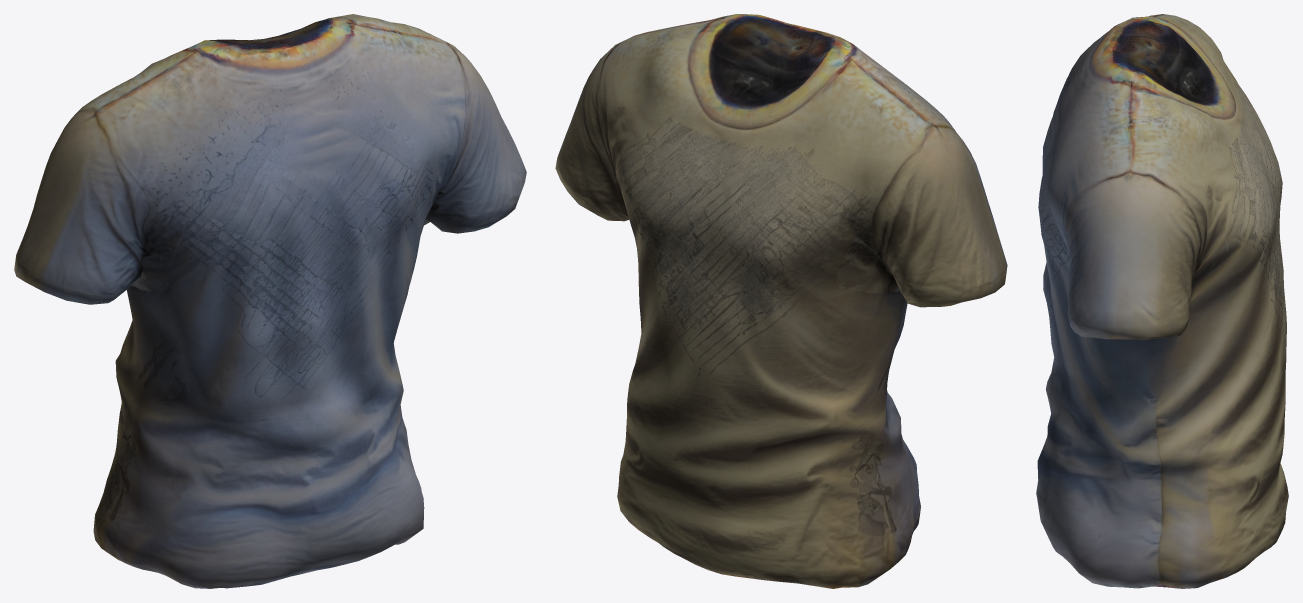
Rendered from BlackTshirt.fbx.
The picture shows the model from 3 angles, left to right: view 1: azimuth 30°, elevation 25°; view 2: azimuth 150°, elevation 25°; view 3: azimuth 270°, elevation 25°; orthographic projection. The views are drawn at different scales.
Visible parts, largest first — view 1: Mesh_0.005; view 2: Mesh_0.005; view 3: Mesh_0.005.
Part boxes in pixels (x1,y1,x2,y2): Mesh_0.005: (14, 14, 526, 588); Mesh_0.005: (555, 14, 1007, 588); Mesh_0.005: (1036, 14, 1288, 588).
Bounding box in the file's own units: 0.6308 × 0.306 × 0.6681.
1 material, 1 textured.
